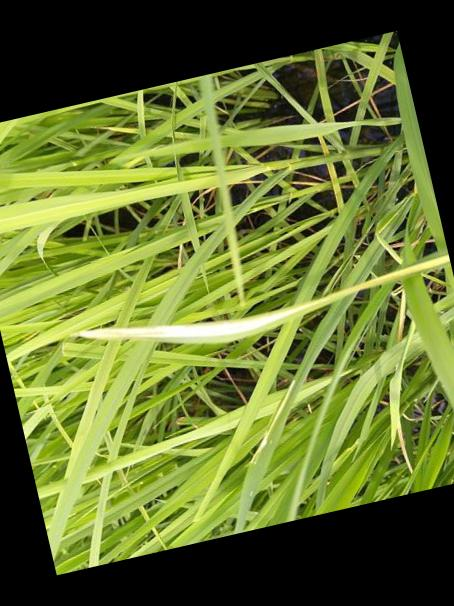Leaf Blight: (79, 251, 451, 344)
